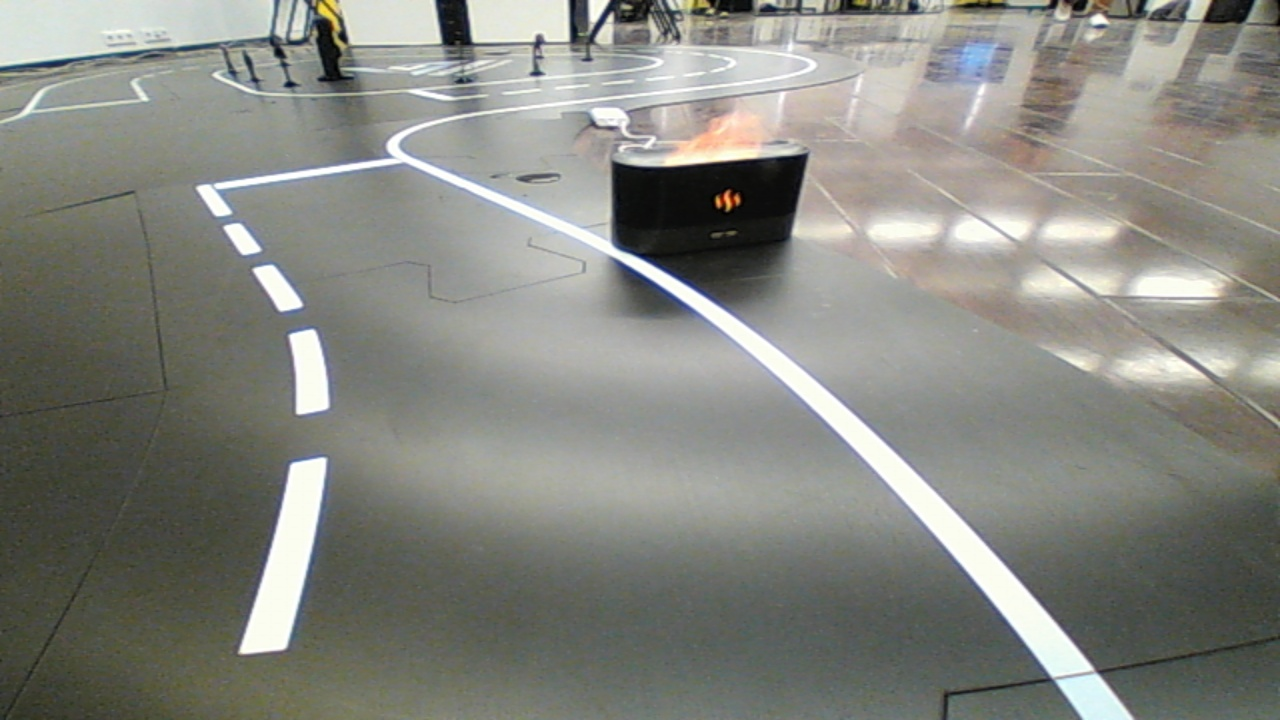Movement prohibition: (573, 126, 837, 276)
